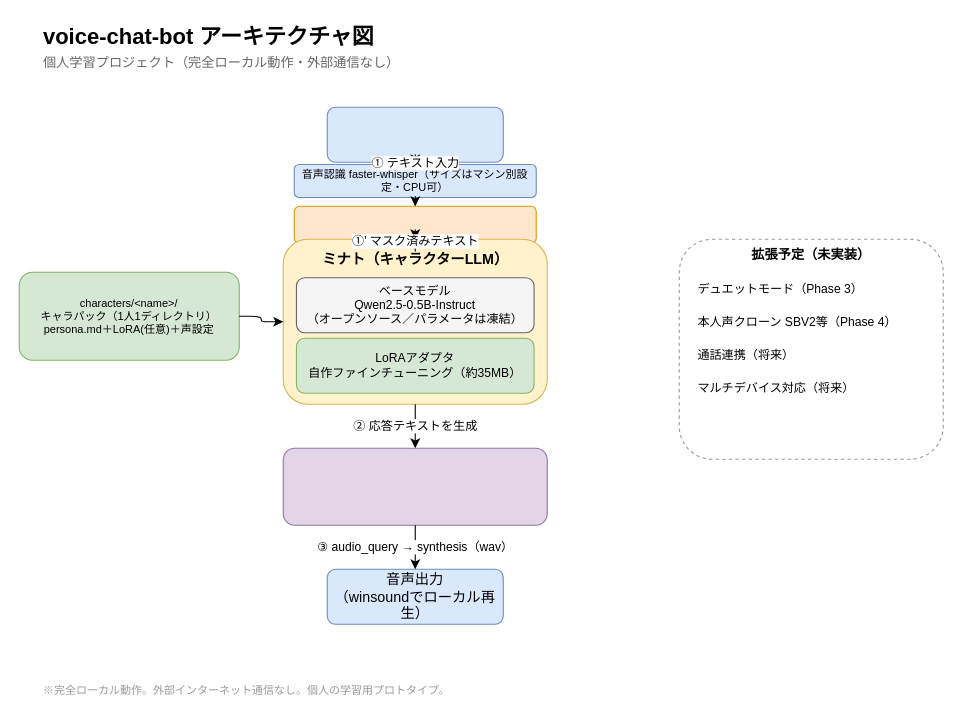
Some shapes in this 963 by 719 pixel diagram are drawn without their labels. The box of each missing label's shape, as (x1, y1, x2, y2) in pixels:
PIIフィルター（src/pii_filter.py） メール・電話・番号列等を正規表現でマスク: (293, 205, 536, 244)
VOICEVOX ローカル音声合成API（port 50021） 話者：ずんだもん: (282, 447, 547, 525)
ユーザー （マイク音声／テキスト）: (326, 106, 503, 162)
